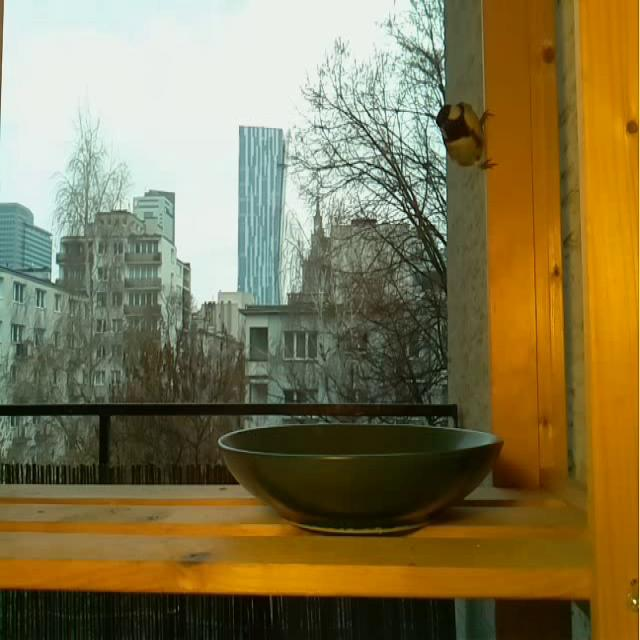Bogatka: (435, 94, 486, 170)
